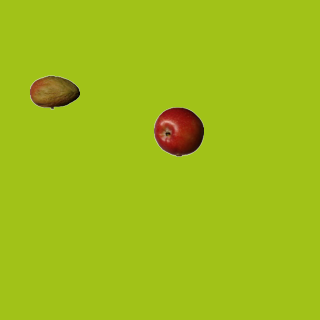Apple Braeburn: (153, 106, 203, 156)
Papaya: (29, 67, 79, 117)
